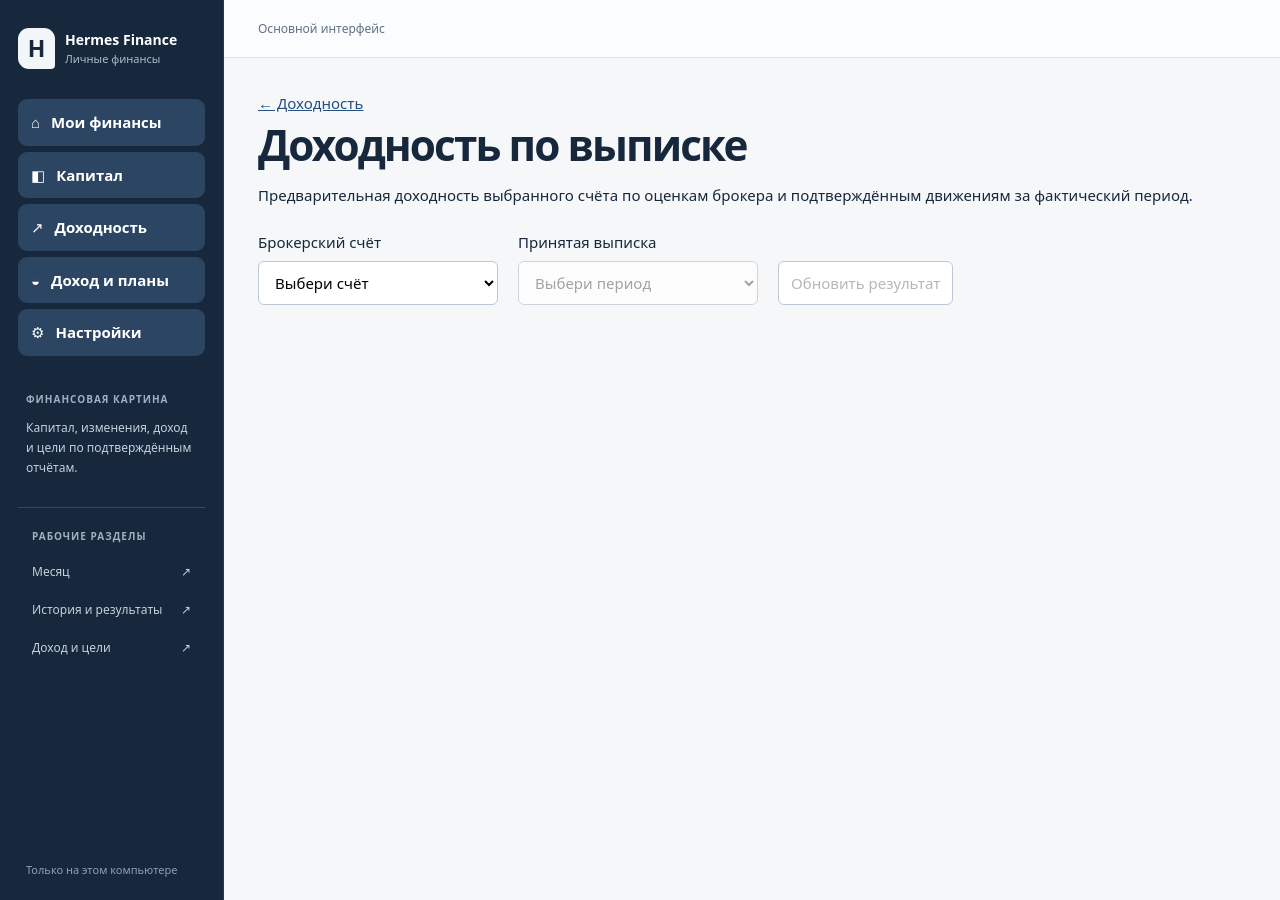
Test: displays account, EOD facts, sign, caveat, fraction and bound export
Select "Synthetic A" in the dropdown labelled "Брокерский счёт" at (378, 283), box 258,261 -> 498,305
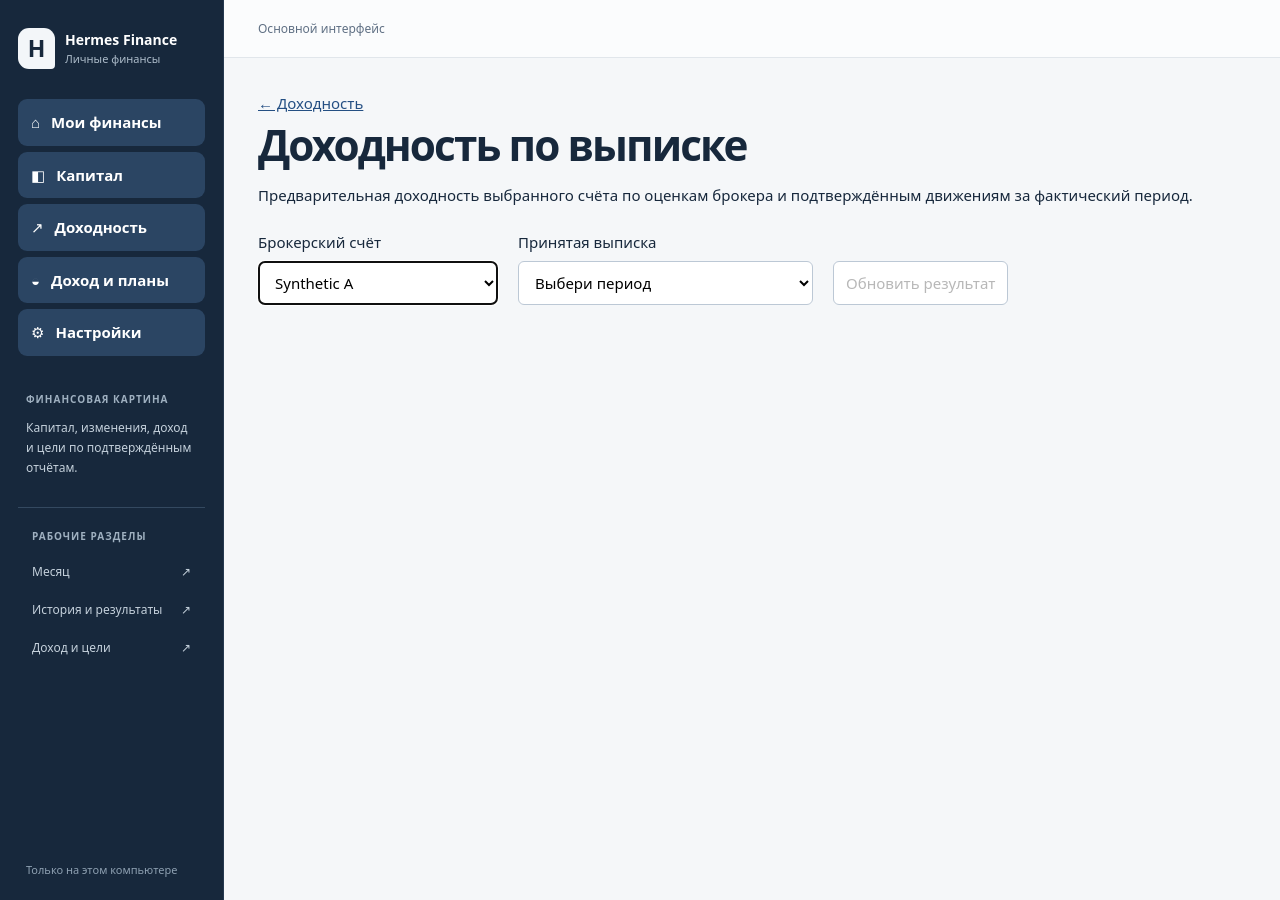
Expected: the dropdown labelled "Принятая выписка" is enabled
Select "31.08.2026 — 30.09.2026 · source-1" in the dropdown labelled "Принятая выписка" at (666, 283), box 518,261 -> 813,305
(page scrolled)
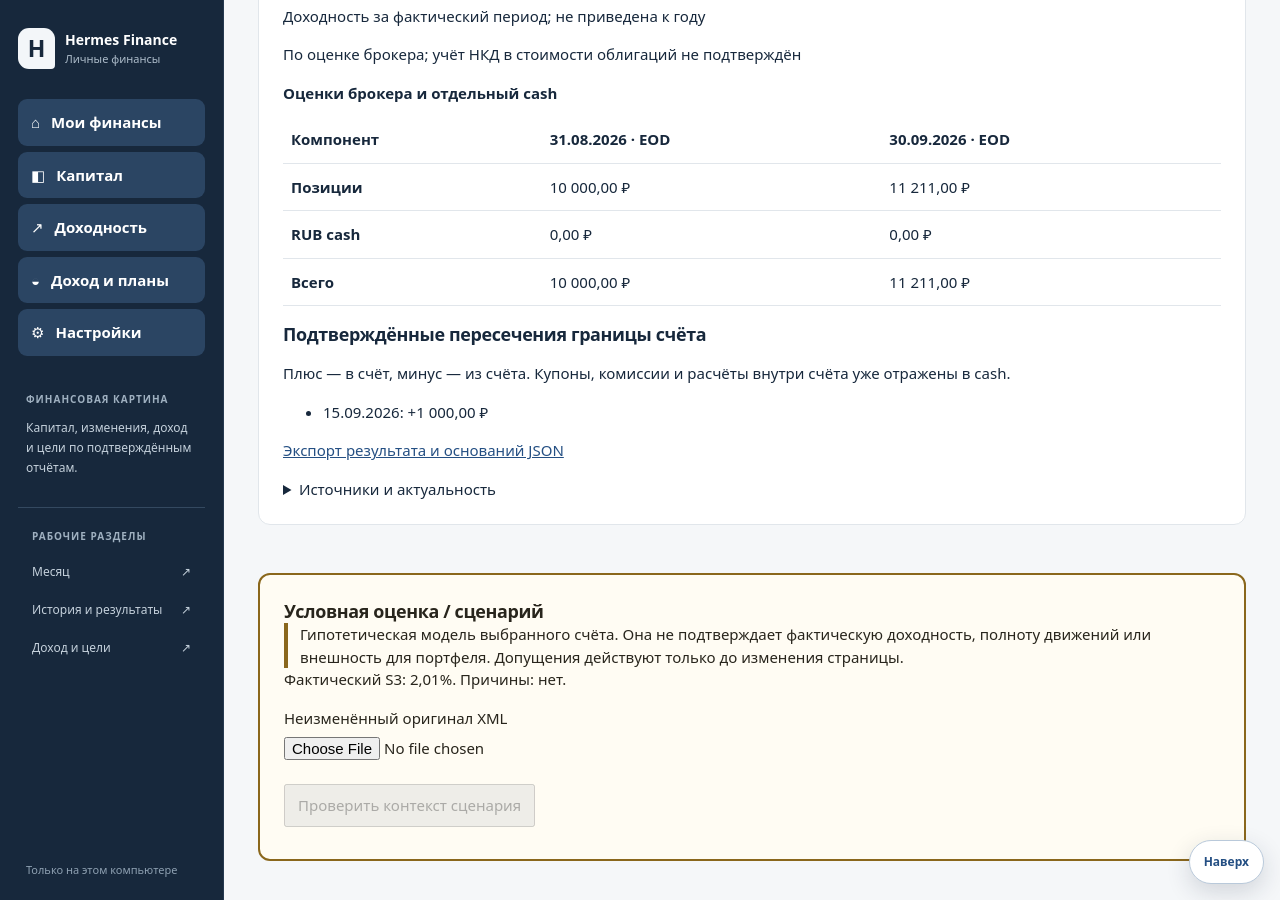
Expected: the text "По оценке брокера; учёт НКД в стоимости облигаций не подтверждён" is shown, 283,44 -> 801,64
Expected: the text "Доходность за фактический период; не приведена к году" is shown, 283,6 -> 705,26
Expected: the list item "15.09.2026: +1 000,00 ₽" is shown, 323,402 -> 488,422
